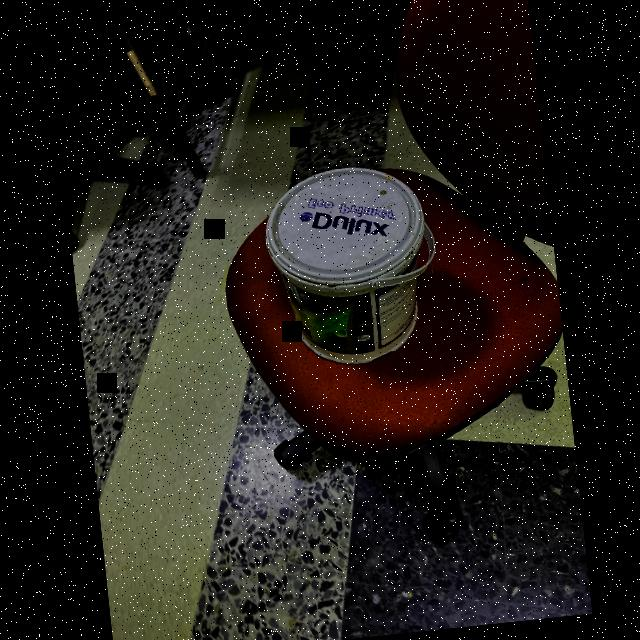paint_bucket: (258, 160, 447, 377)
